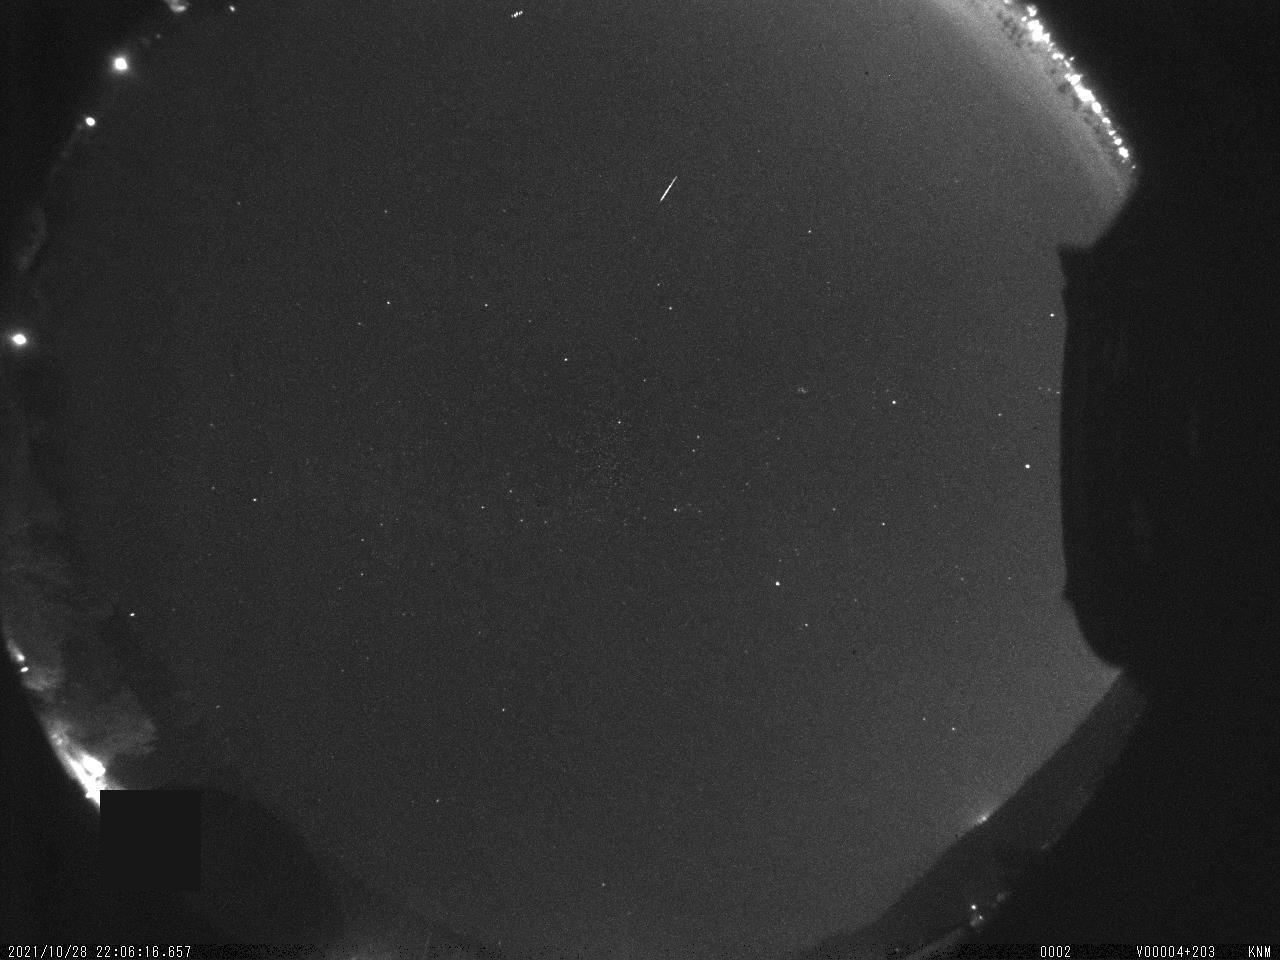Meteor: (653, 166, 687, 213)
